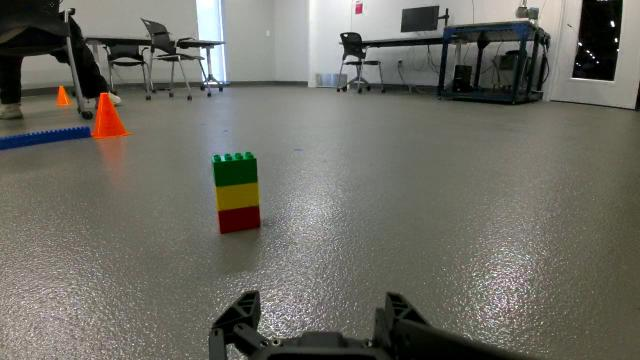lego: (192, 139, 290, 249)
